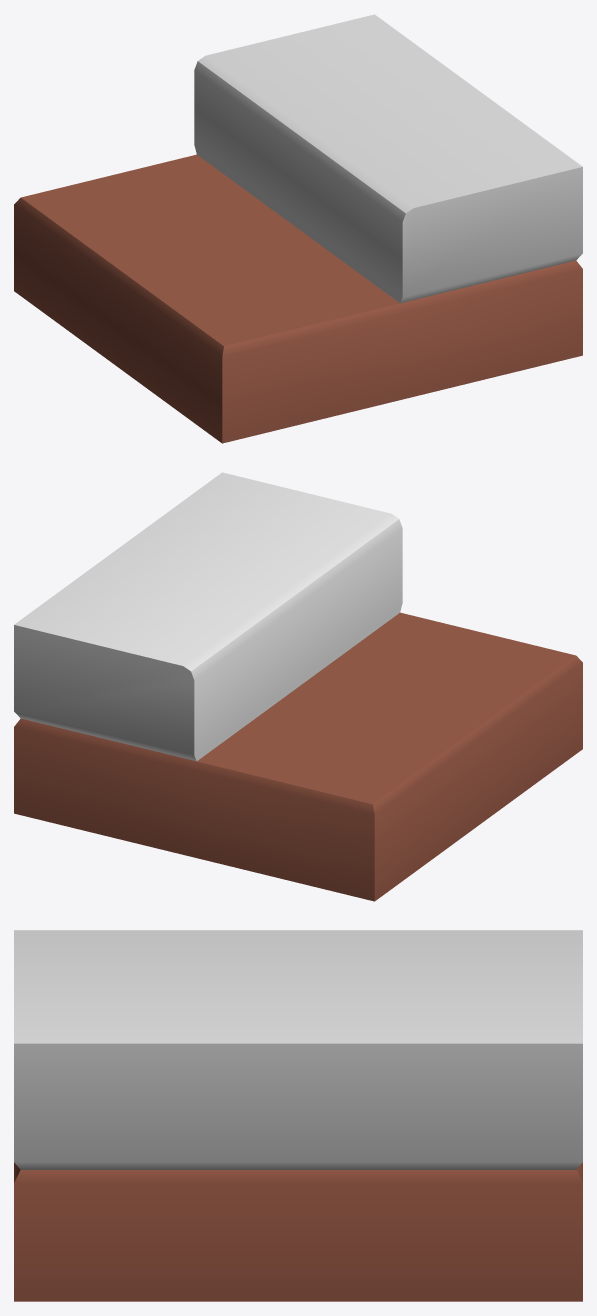
The model's file is square_snow_waterStraight_empty.fbx.
3 renders of one model, top to bottom at view 1: azimuth 30°, elevation 25°; view 2: azimuth 150°, elevation 25°; view 3: azimuth 270°, elevation 25°, orthographic. The views are drawn at different scales.
Visible parts, largest first — view 1: square_snow_waterStraight_empty; view 2: square_snow_waterStraight_empty; view 3: square_snow_waterStraight_empty.
Boxes of the visible parts, box(x1,y1,x2,y2) form: square_snow_waterStraight_empty: box(14, 14, 582, 443); square_snow_waterStraight_empty: box(14, 472, 582, 901); square_snow_waterStraight_empty: box(14, 930, 582, 1301).
Size of the model in its own units: 2 by 1 by 2.
